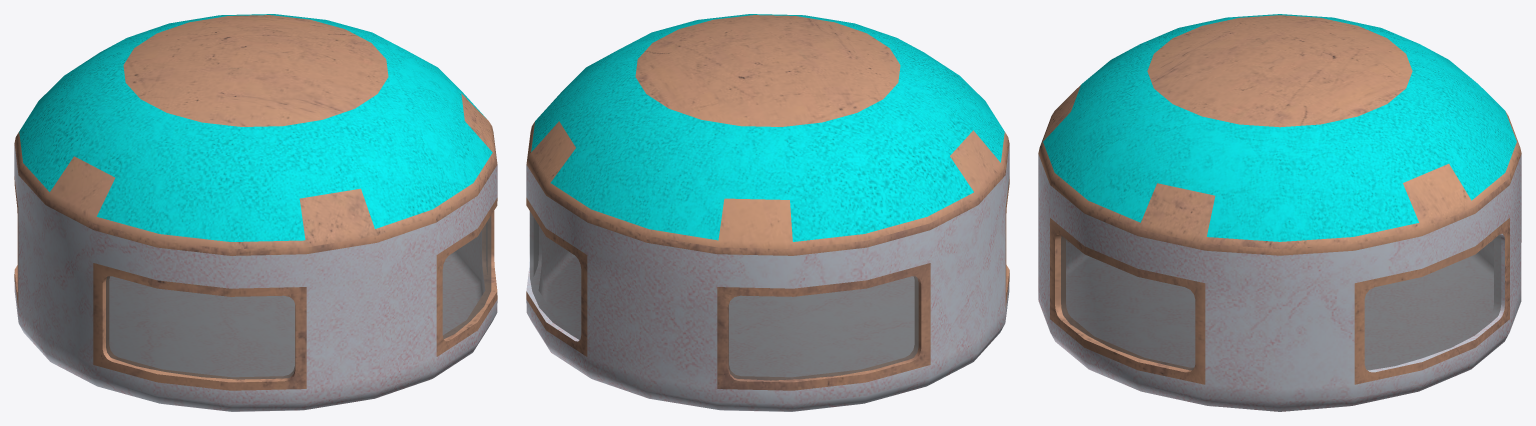
File: arc_sci_base_Domehouse_Dome_B.gltf
The picture shows the model from 3 angles, left to right: view 1: azimuth 30°, elevation 25°; view 2: azimuth 150°, elevation 25°; view 3: azimuth 270°, elevation 25°; orthographic projection.
Parts seen in each view (by area): view 1: arc_sci_base_Domehouse_Dome_B(Clone); view 2: arc_sci_base_Domehouse_Dome_B(Clone); view 3: arc_sci_base_Domehouse_Dome_B(Clone).
Boxes of the visible parts, x1=… form: arc_sci_base_Domehouse_Dome_B(Clone): x1=14, y1=14, x2=497, y2=411; arc_sci_base_Domehouse_Dome_B(Clone): x1=526, y1=14, x2=1009, y2=411; arc_sci_base_Domehouse_Dome_B(Clone): x1=1038, y1=14, x2=1521, y2=411.
Bounding box in the file's own units: 10.26 × 6.13 × 10.26.
Materials: 4 (3 with a texture image).
